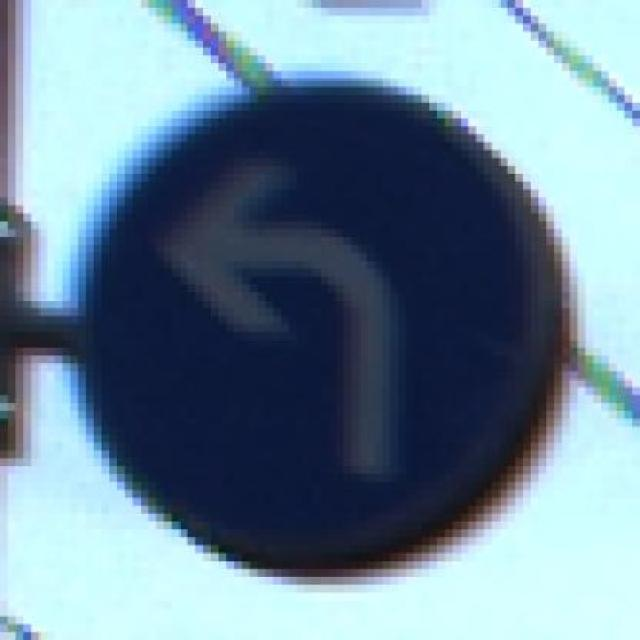Turn left ahead: (55, 55, 593, 592)
